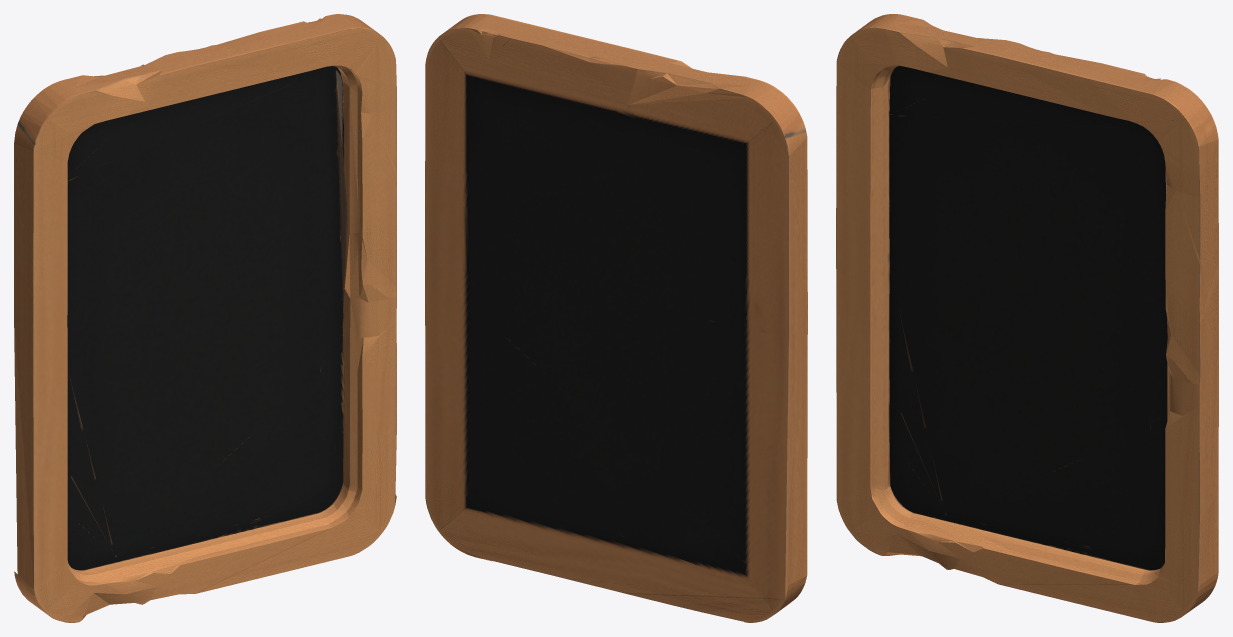
The model's file is chalkboard.glb.
The picture shows the model from 3 angles, left to right: view 1: azimuth 30°, elevation 25°; view 2: azimuth 150°, elevation 25°; view 3: azimuth 330°, elevation 25°; orthographic projection.
Bounding box in the file's own units: 1.37 × 1.9 × 0.1257.
1 material, 1 textured.
